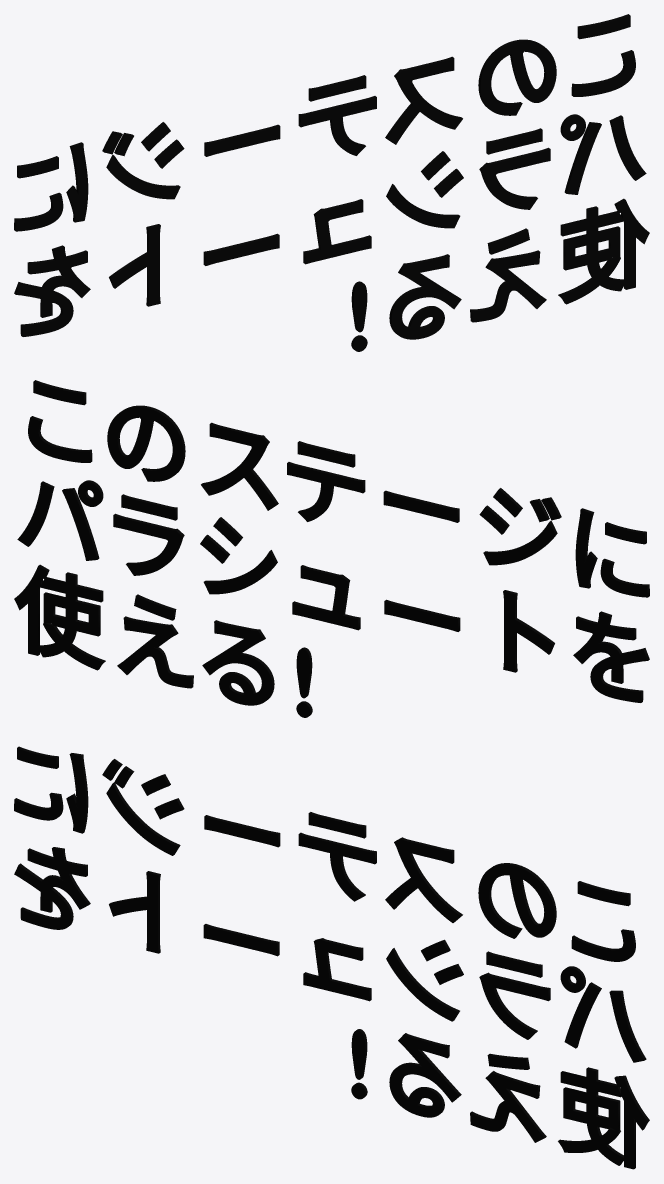
The model's file is paratext.obj.
3 views of the same model, one above another, from view 1: azimuth 30°, elevation 25°; view 2: azimuth 150°, elevation 25°; view 3: azimuth 330°, elevation 25° (orthographic).
Parts seen in each view (by area): view 1: Text.014, Text.013, Text.001, Text.016, Text.015, Text.006, Text.008, Text.007, Text.003, Text.005, Text.002, Text.010 (+6 smaller); view 2: Text.014, Text.013, Text.001, Text.016, Text.015, Text.006, Text.008, Text.007, Text.003, Text.005, Text.002, Text.010 (+6 smaller); view 3: Text.014, Text.013, Text.001, Text.016, Text.015, Text.006, Text.008, Text.003, Text.007, Text.005, Text.002, Text.009 (+6 smaller).
Part boxes in pixels (box(x1,y1,x2,y2)): Text.014: box(558, 198, 649, 304); Text.013: box(14, 245, 90, 336); Text.001: box(478, 39, 556, 115); Text.016: box(389, 254, 461, 339); Text.015: box(470, 228, 546, 322); Text.006: box(14, 142, 88, 231); Text.008: box(479, 128, 550, 209); Text.007: box(560, 114, 646, 194); Text.003: box(298, 75, 376, 155); Text.005: box(102, 122, 184, 199); Text.002: box(385, 56, 462, 144); Text.010: box(303, 199, 371, 264); Text.014: box(14, 564, 105, 670); Text.013: box(573, 611, 649, 702); Text.001: box(107, 405, 185, 481); Text.016: box(202, 620, 274, 705); Text.015: box(117, 594, 193, 688); Text.006: box(575, 508, 649, 597); Text.008: box(113, 494, 184, 575); Text.007: box(17, 480, 103, 560); Text.003: box(287, 441, 365, 521); Text.005: box(479, 488, 561, 565); Text.002: box(201, 422, 278, 510); Text.010: box(292, 565, 360, 630); Text.014: box(558, 1067, 649, 1169); Text.013: box(14, 847, 90, 929); Text.001: box(478, 863, 556, 938); Text.016: box(389, 1033, 461, 1117); Text.015: box(470, 1053, 546, 1142); Text.006: box(14, 746, 88, 833); Text.008: box(479, 951, 550, 1039); Text.003: box(298, 812, 376, 901); Text.007: box(560, 966, 646, 1062); Text.005: box(102, 759, 184, 855); Text.002: box(385, 837, 462, 922); Text.009: box(386, 939, 463, 1021).
Size of the model in its own units: 7.15 by 3.05 by 0.04.
